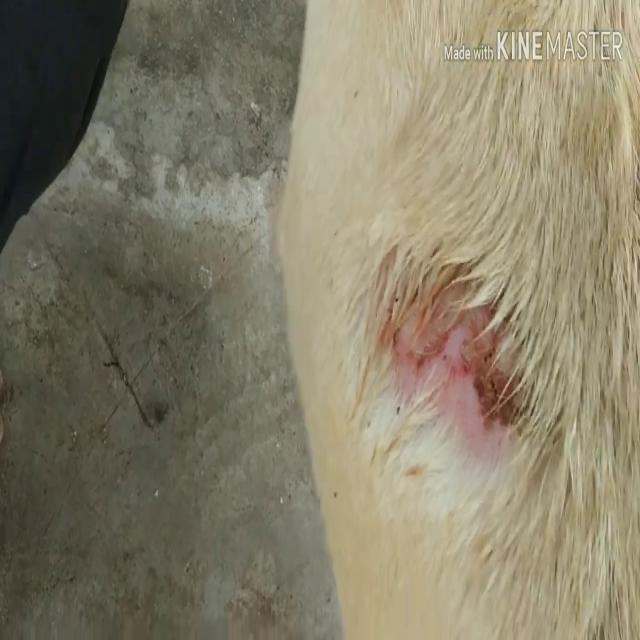hac lao: (320, 210, 576, 494)
